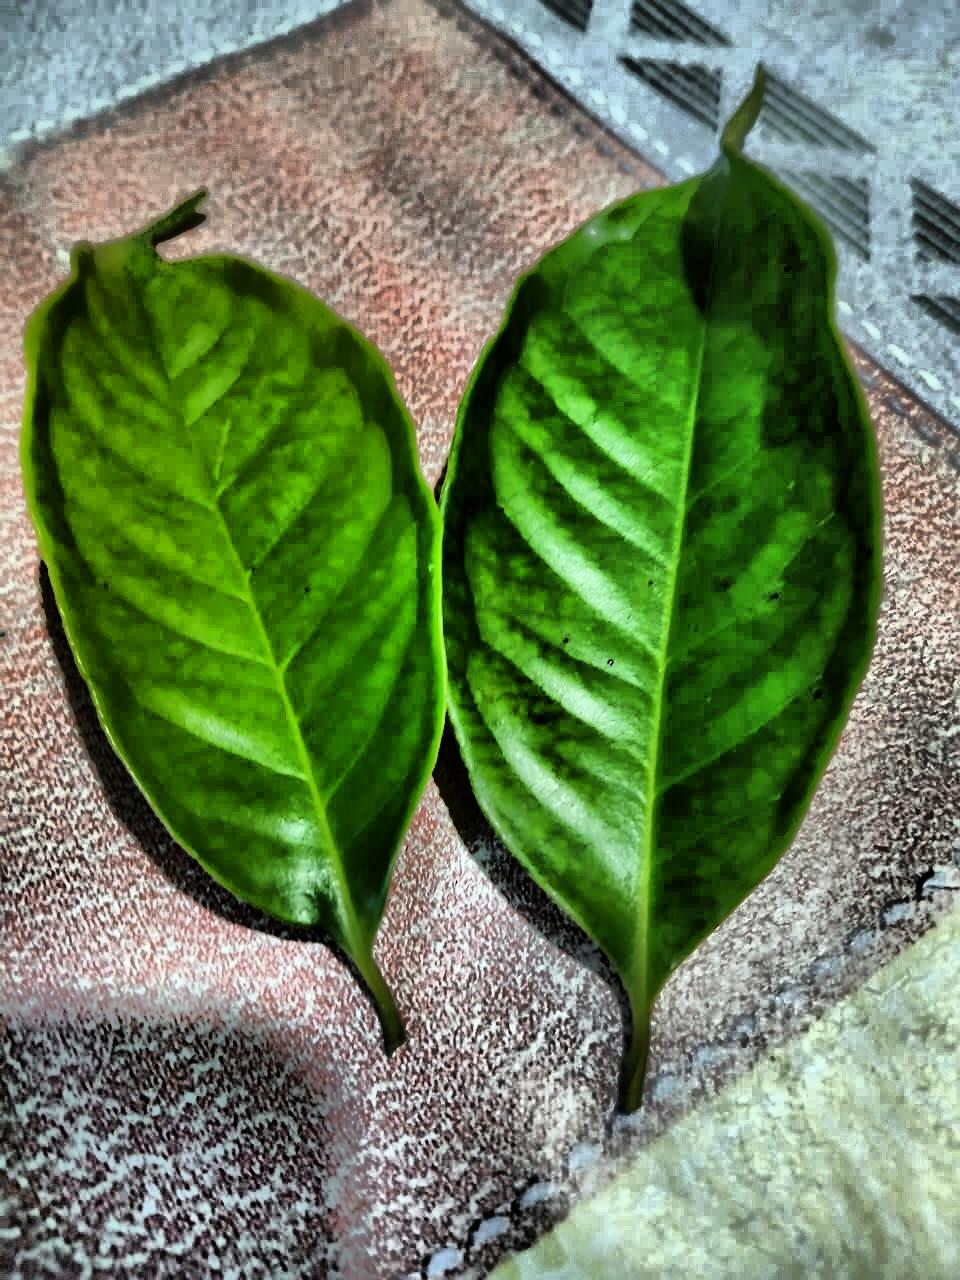daun salam: (442, 73, 879, 1105), (22, 193, 445, 1046)
